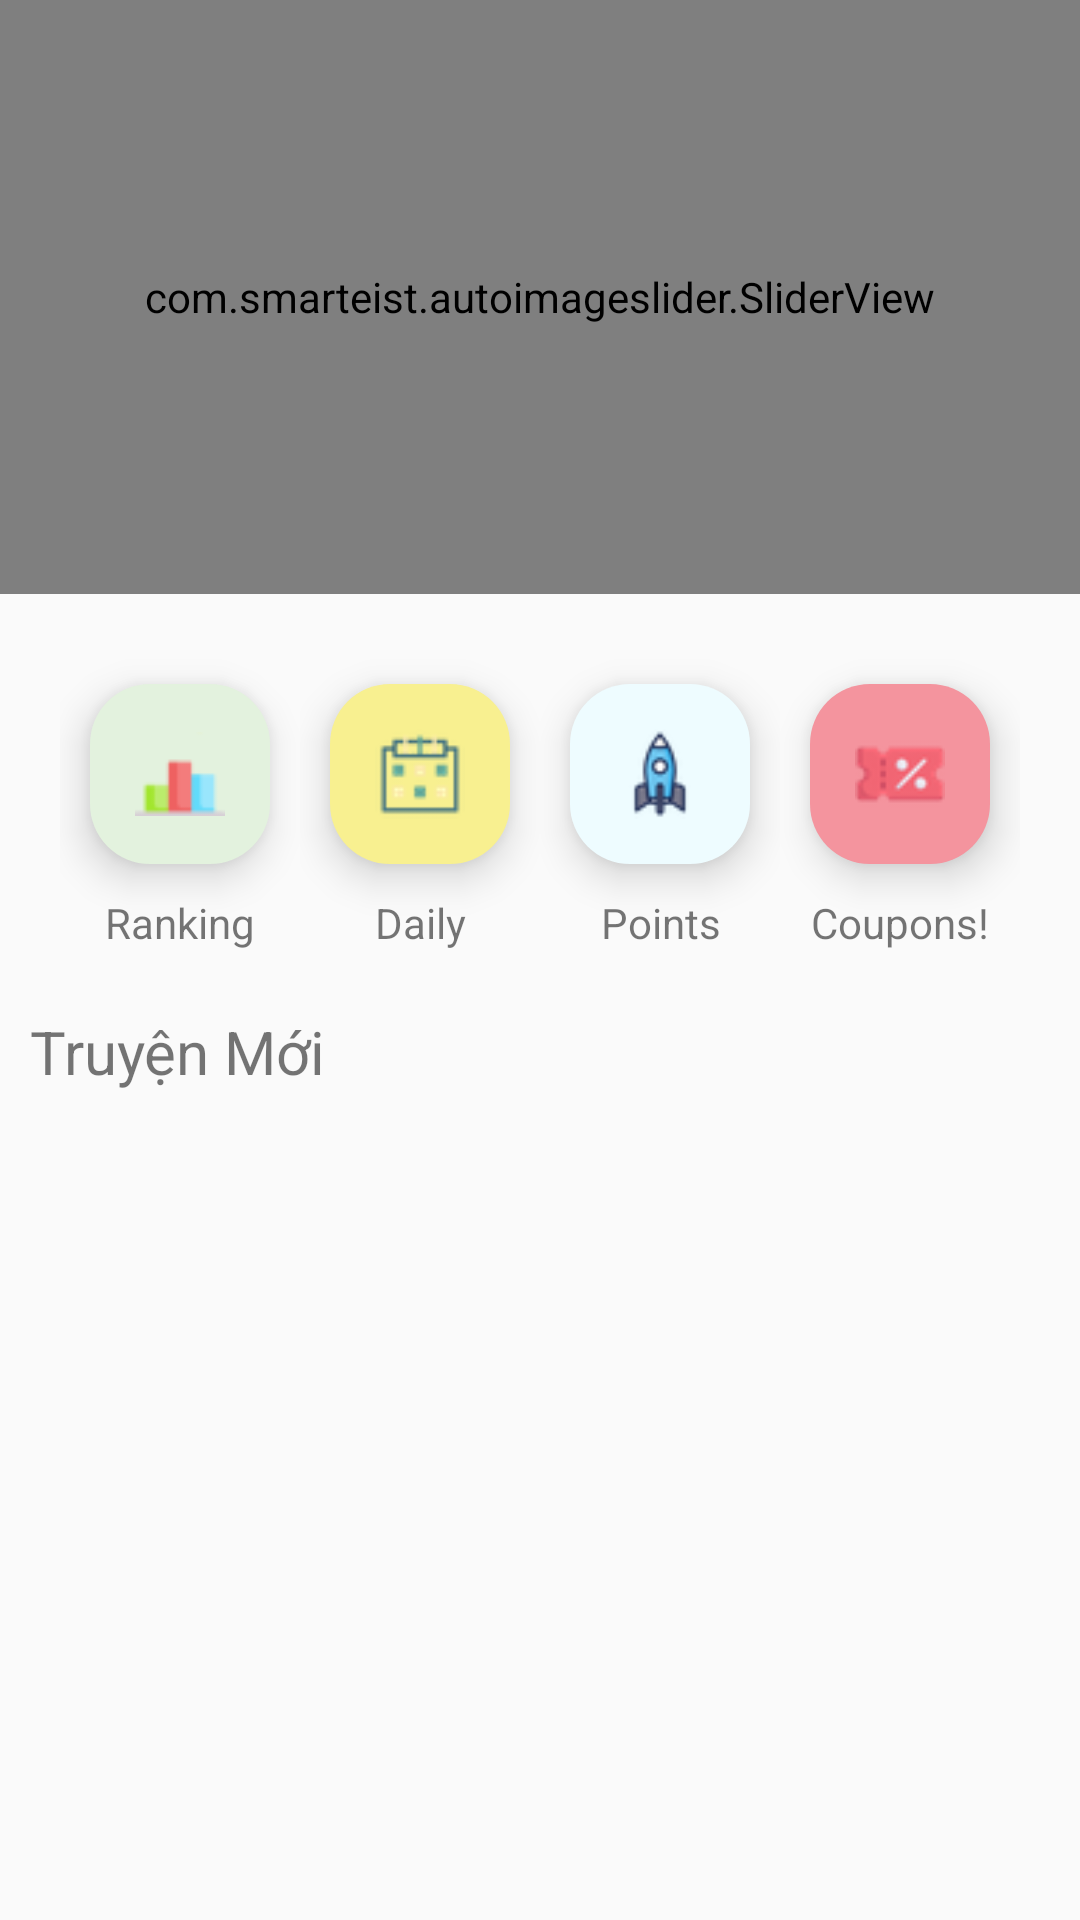

Where icons sit on this 1080 × 1920 app screen, as (x1, y1, x2, y2):
calendar: (380, 735, 460, 814)
rocket: (634, 732, 686, 817)
